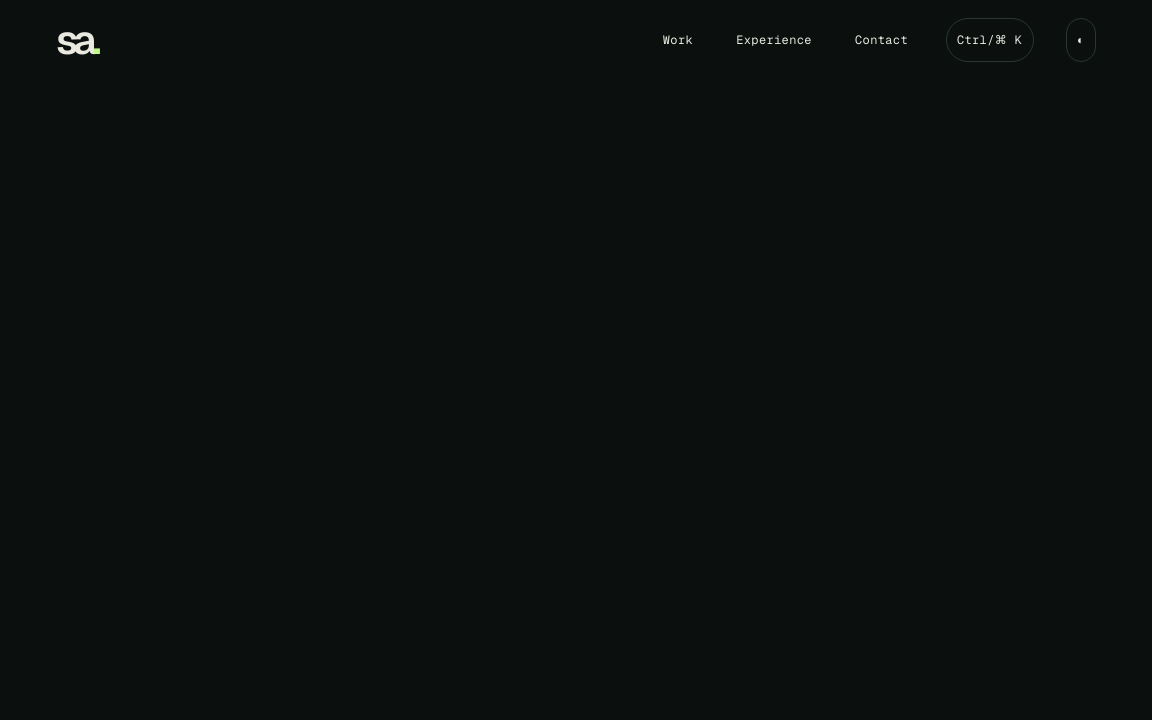
Test: opens from a visible control, filters, selects, and closes
Click the button with aria-label "open command palette": (990, 40) [946,18,1034,62]
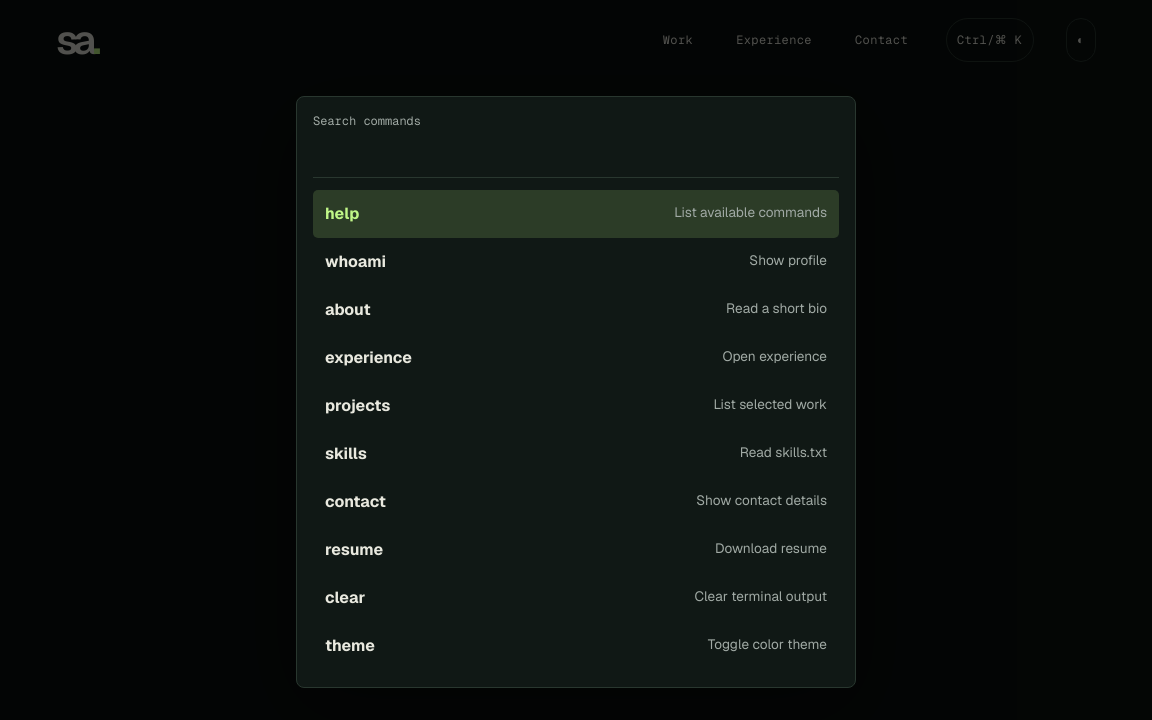
Expected: the dropdown labelled "Search commands" is shown
In the dropdown labelled "Search commands": (576, 154) [313,129,839,178], type "who"
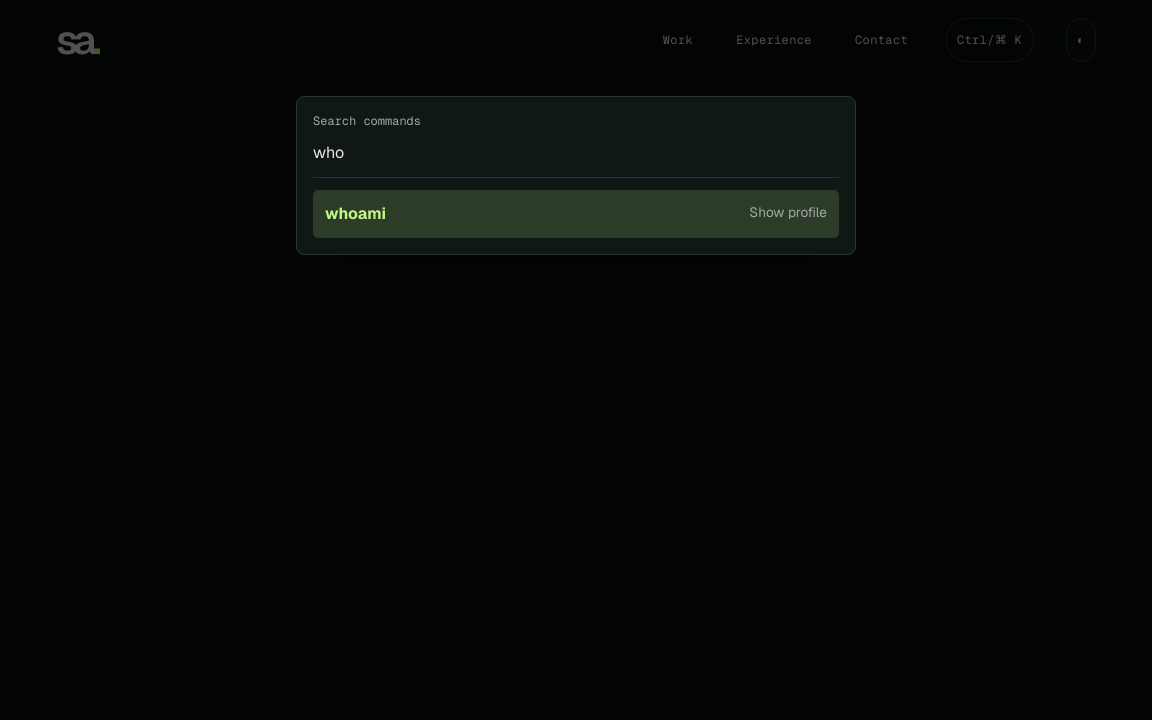
Expected: the text "whoami" is shown, [325,202,386,226]
Press ArrowDown in the dropdown labelled "Search commands", box [313,129,839,178]
Expected: the option "whoami Show profile" is selected, [313,190,839,238]
Press Enter in the dropdown labelled "Search commands", box [313,129,839,178]
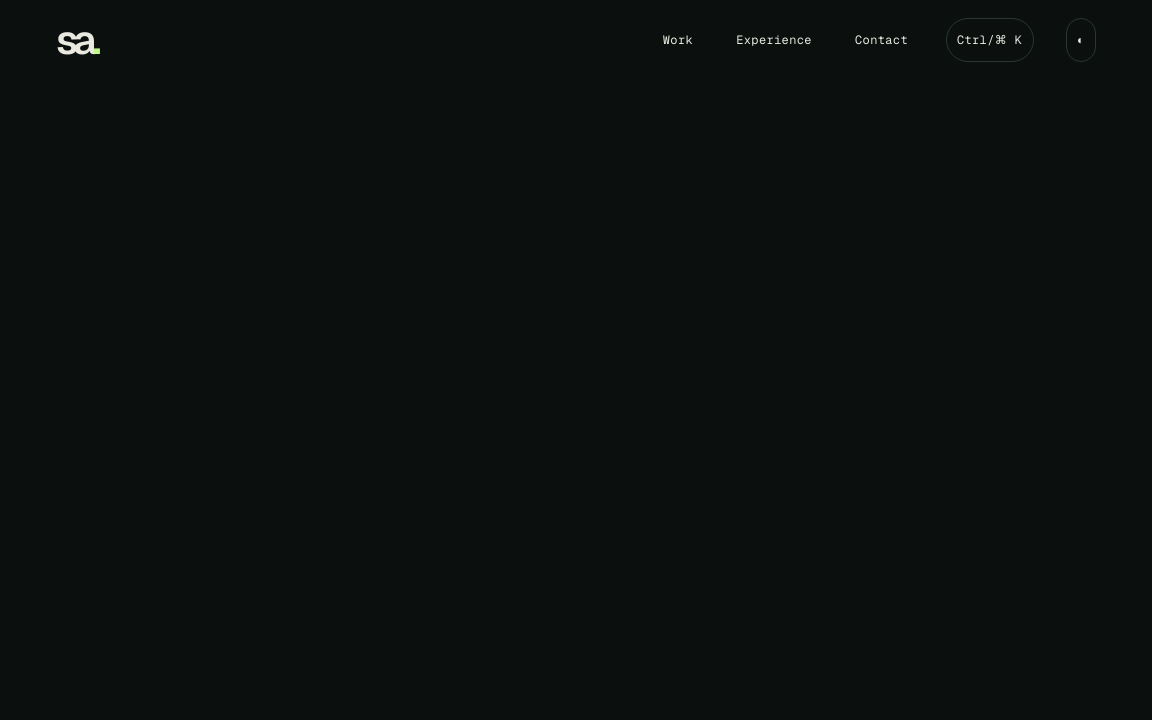
Expected: the dialog is gone
Press k
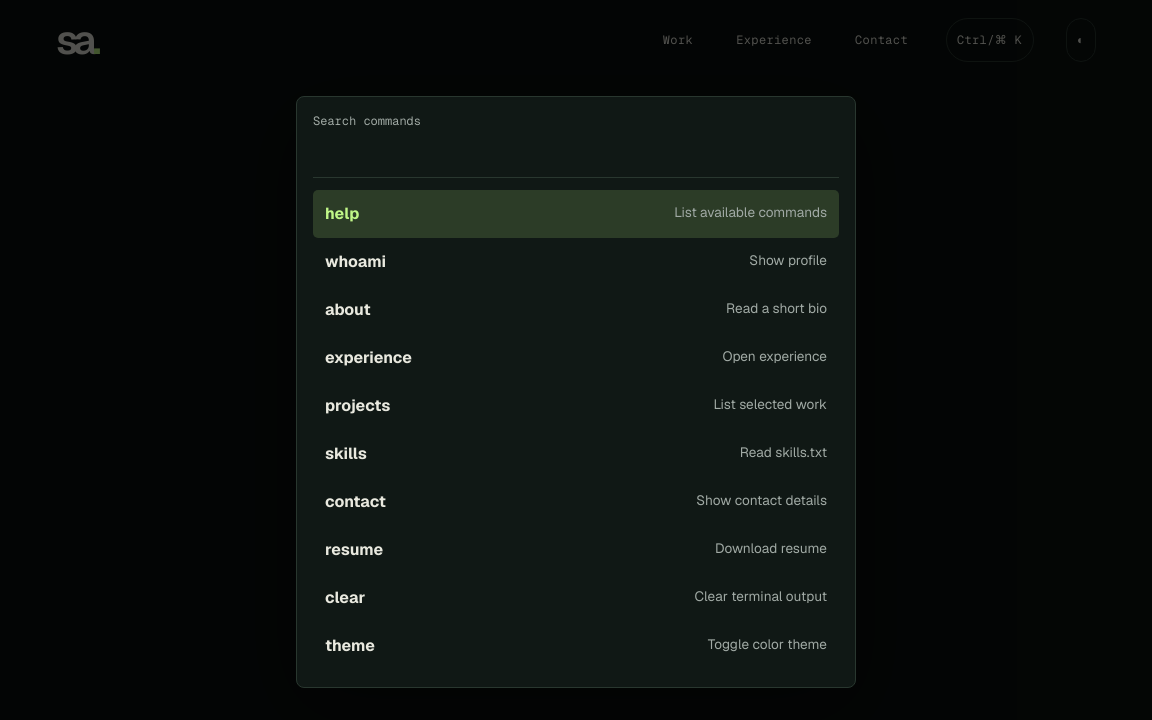
Press Escape in the dropdown labelled "Search commands", box [313,129,839,178]
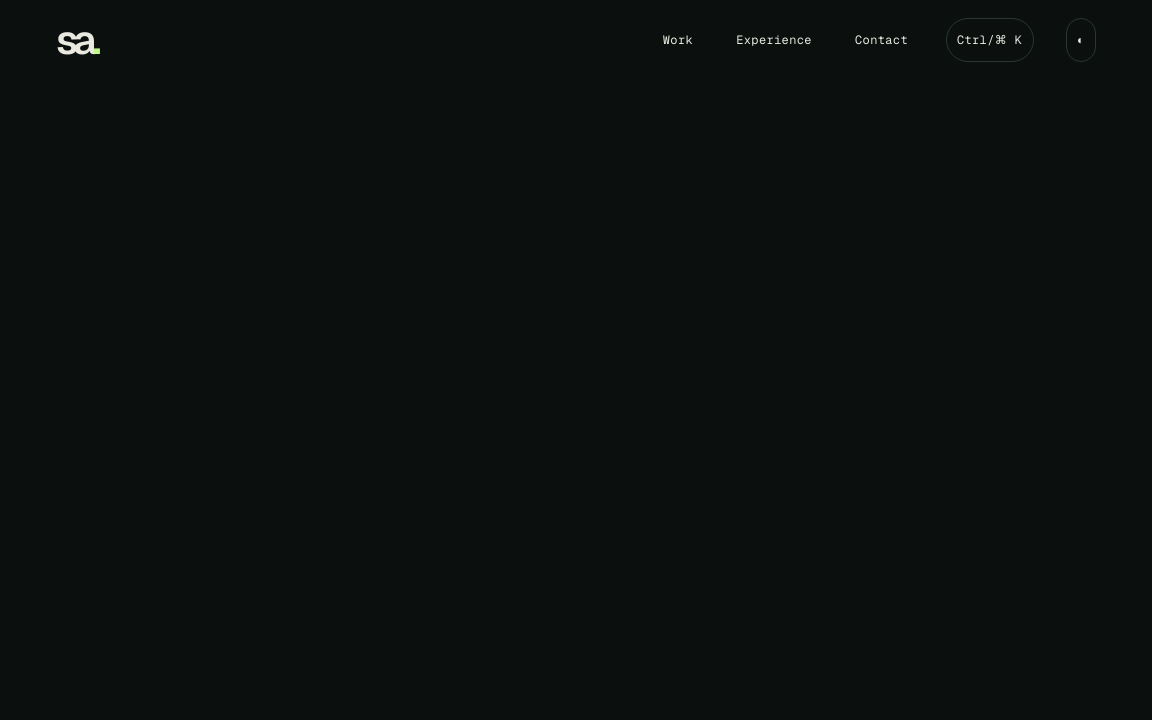
Expected: the dialog is gone
